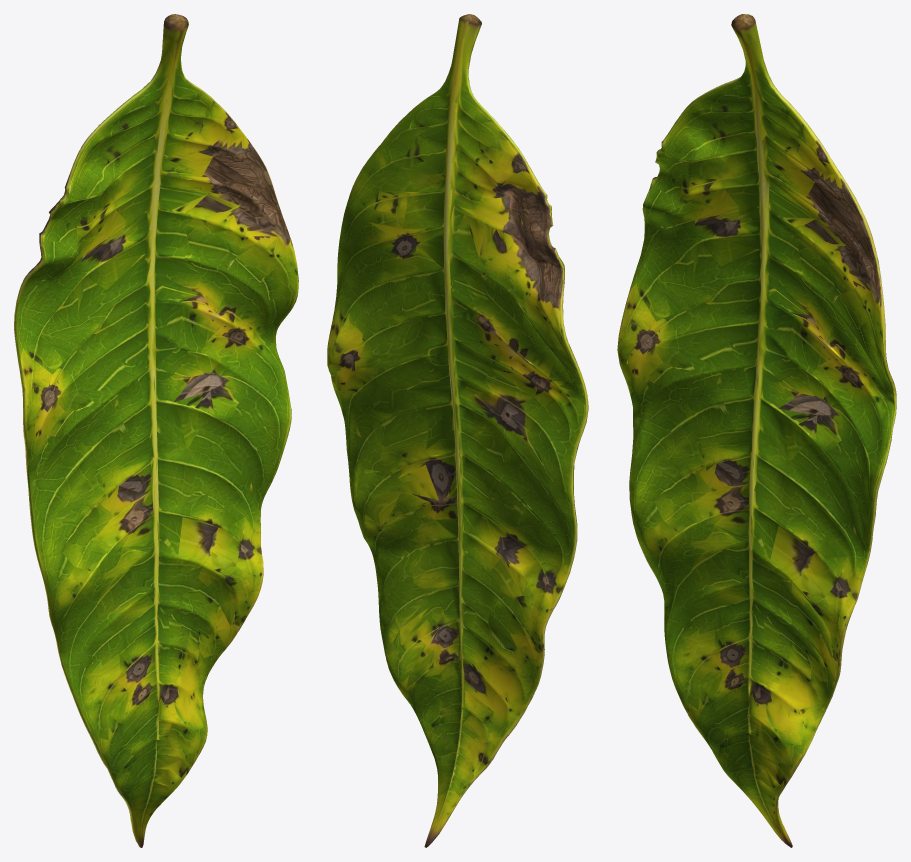
Rendered from mango_anthracnose.glb.
3 views of the same model, side by side, from view 1: azimuth 30°, elevation 25°; view 2: azimuth 150°, elevation 25°; view 3: azimuth 330°, elevation 25° (orthographic). The views are drawn at different scales.
Parts seen in each view (by area): view 1: mango_anthracnose; view 2: mango_anthracnose; view 3: mango_anthracnose.
Boxes of the visible parts, x1=… form: mango_anthracnose: x1=14, y1=14, x2=298, y2=847; mango_anthracnose: x1=327, y1=14, x2=588, y2=847; mango_anthracnose: x1=617, y1=14, x2=896, y2=847.
Bounding box in the file's own units: 0.3285 × 1 × 0.1008.
Materials: 1 (1 with a texture image).
